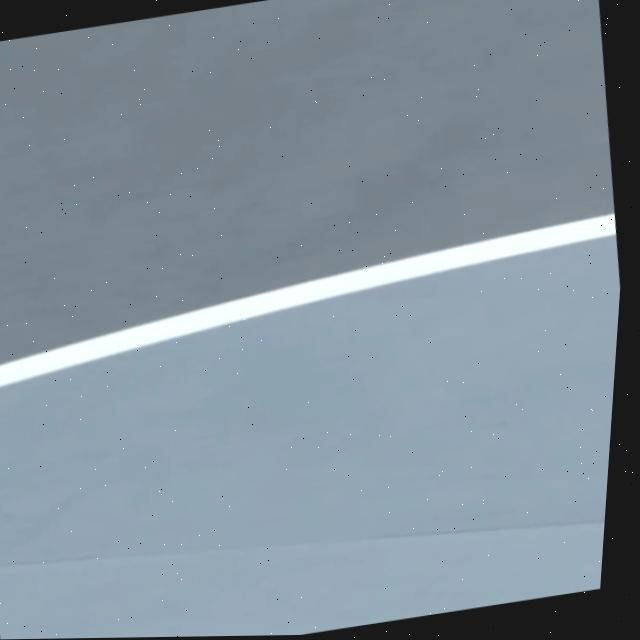left: (0, 214, 616, 388)
